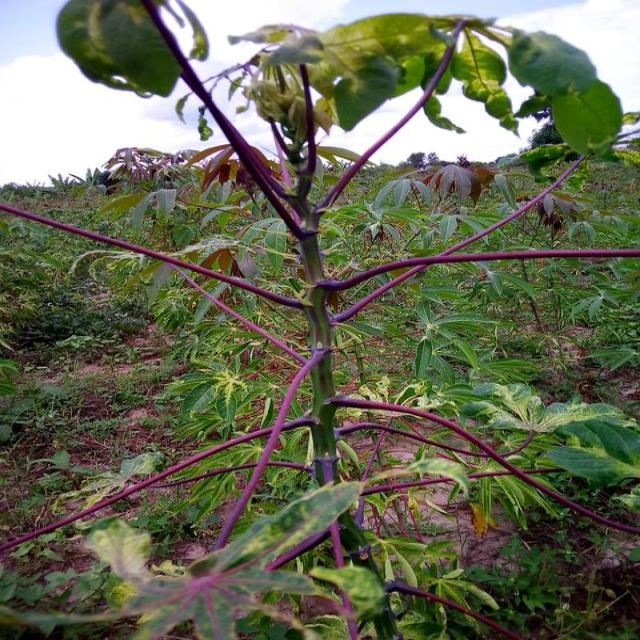cassava leaf: (57, 0, 185, 98)
